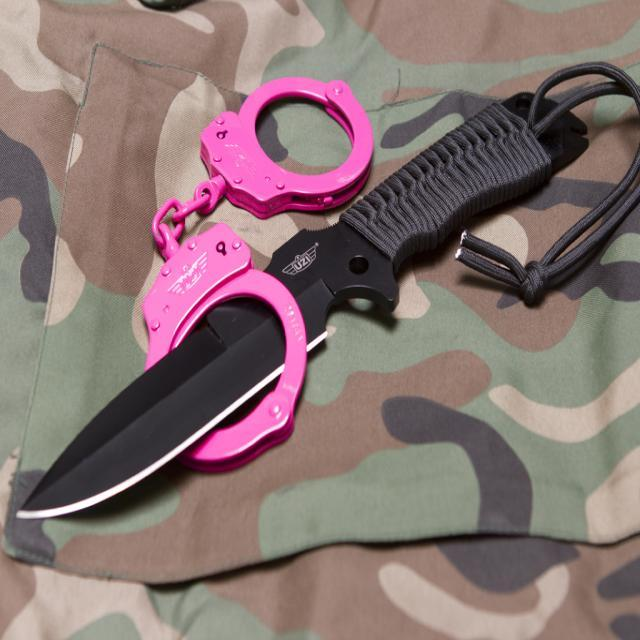Knife: (265, 92, 588, 349), (20, 299, 285, 518)
